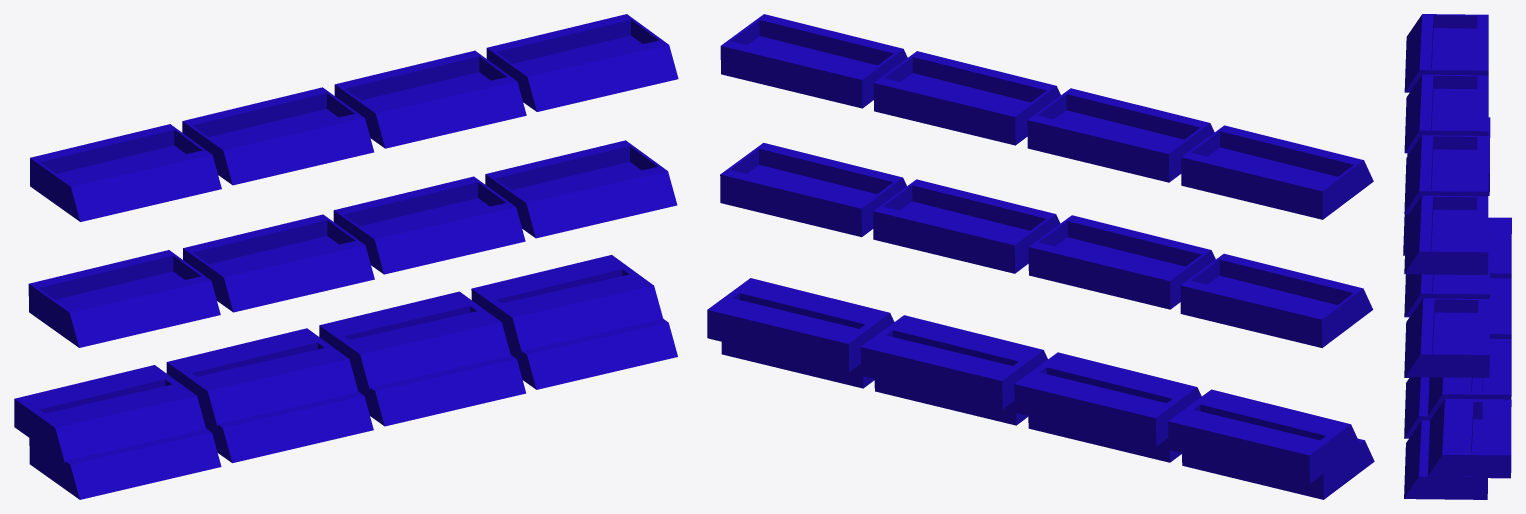
3 renders of one model, left to right at view 1: azimuth 30°, elevation 25°; view 2: azimuth 150°, elevation 25°; view 3: azimuth 270°, elevation 25°, orthographic. The views are drawn at different scales.
Parts seen in each view (by area): view 1: balkon.023; view 2: balkon.023; view 3: balkon.023.
Boxes of the visible parts, x1=… form: balkon.023: x1=14, y1=14, x2=678, y2=499; balkon.023: x1=707, y1=14, x2=1374, y2=499; balkon.023: x1=1403, y1=14, x2=1511, y2=499.
Size of the model in its own units: 783 by 386 by 152.
